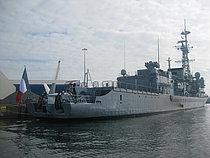MIL_Ship: (27, 18, 208, 117)
